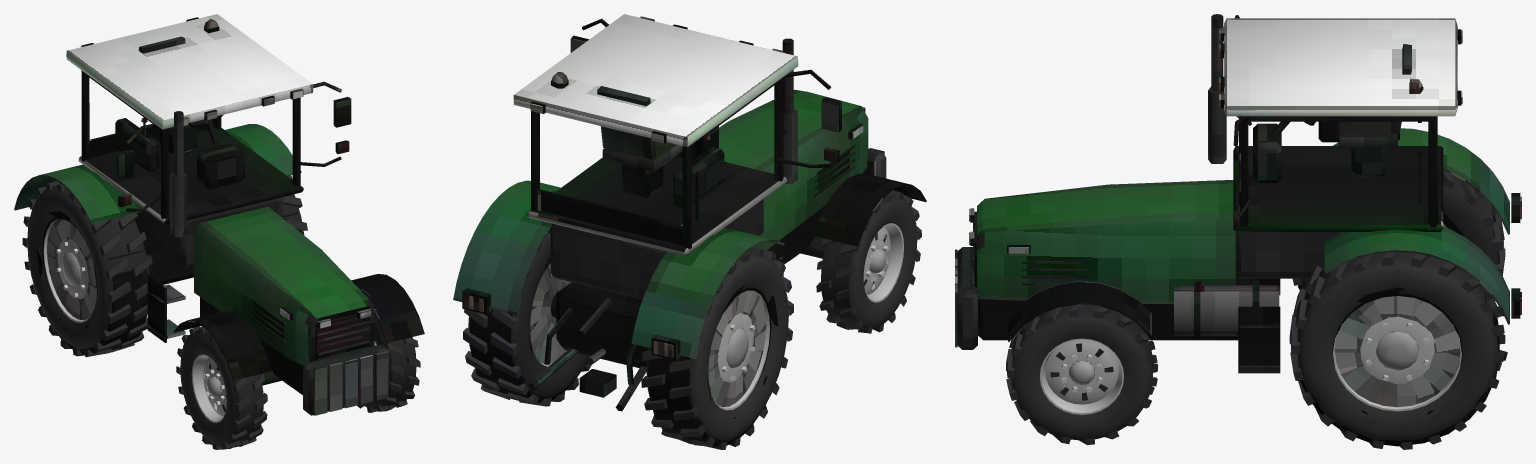
Rendered from traktor_m.glb.
The picture shows the model from 3 angles, left to right: view 1: azimuth 30°, elevation 25°; view 2: azimuth 150°, elevation 25°; view 3: azimuth 270°, elevation 25°; orthographic projection. The views are drawn at different scales.
Parts seen in each view (by area): view 1: koerper, rad_hr_gummi, rad_vr_gummi, rad_vl_gummi, rad_hr_metall, rad_vr_metall, rad_hl_gummi; view 2: koerper, rad_hr_gummi, rad_vr_gummi, rad_hl_gummi, rad_hr_metall, rad_vr_metall; view 3: koerper, rad_hl_gummi, rad_vl_gummi, rad_vl_metall, rad_hl_metall, rad_hr_gummi.
Boxes of the visible parts, bbox=[...] form: koerper: bbox=[14, 14, 424, 415]; rad_hr_gummi: bbox=[22, 180, 152, 357]; rad_vr_gummi: bbox=[176, 326, 267, 449]; rad_vl_gummi: bbox=[357, 312, 420, 412]; rad_hr_metall: bbox=[43, 219, 94, 322]; rad_vr_metall: bbox=[191, 354, 226, 423]; rad_hl_gummi: bbox=[283, 175, 307, 234]; koerper: bbox=[453, 14, 926, 446]; rad_hr_gummi: bbox=[641, 246, 793, 449]; rad_vr_gummi: bbox=[816, 190, 921, 333]; rad_hl_gummi: bbox=[463, 229, 591, 406]; rad_hr_metall: bbox=[711, 290, 769, 410]; rad_vr_metall: bbox=[863, 223, 903, 302]; koerper: bbox=[955, 14, 1521, 446]; rad_hl_gummi: bbox=[1289, 252, 1505, 449]; rad_vl_gummi: bbox=[1006, 304, 1157, 445]; rad_vl_metall: bbox=[1039, 338, 1124, 414]; rad_hl_metall: bbox=[1332, 316, 1461, 411]; rad_hr_gummi: bbox=[1292, 171, 1505, 301].
Bounding box in the file's own units: 2.44 × 2.9 × 4.31.
Materials: 3 (1 with a texture image).
